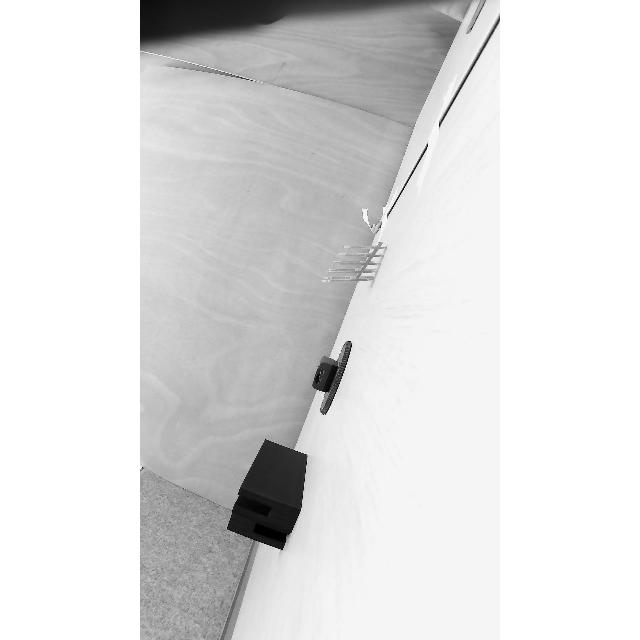targets: (228, 437, 312, 553), (310, 338, 356, 418), (319, 238, 386, 290)
